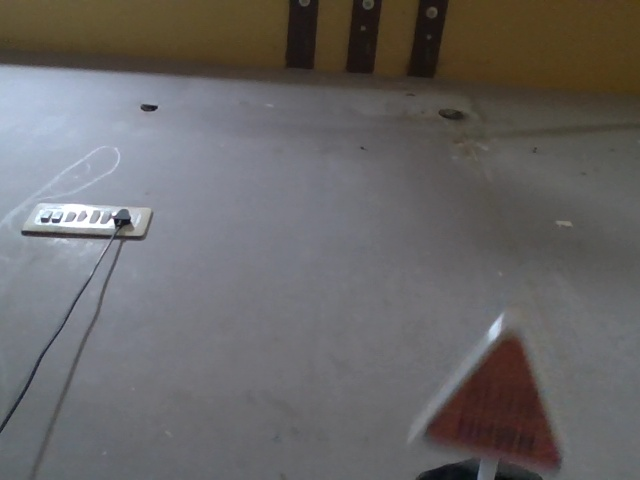slowdown: (403, 288, 607, 477)
